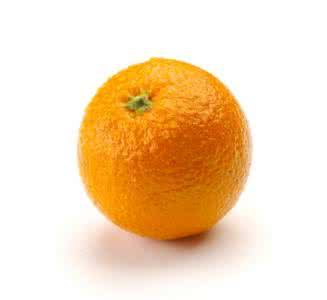orange: (77, 58, 263, 240)
